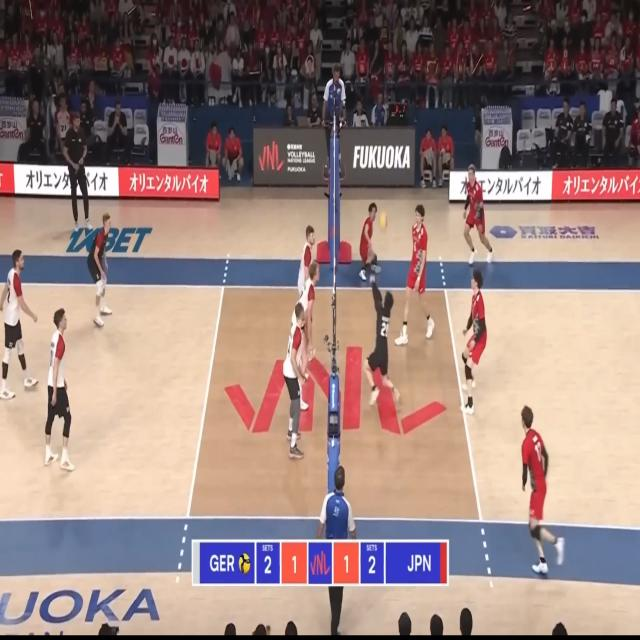ball: (380, 212, 388, 232)
